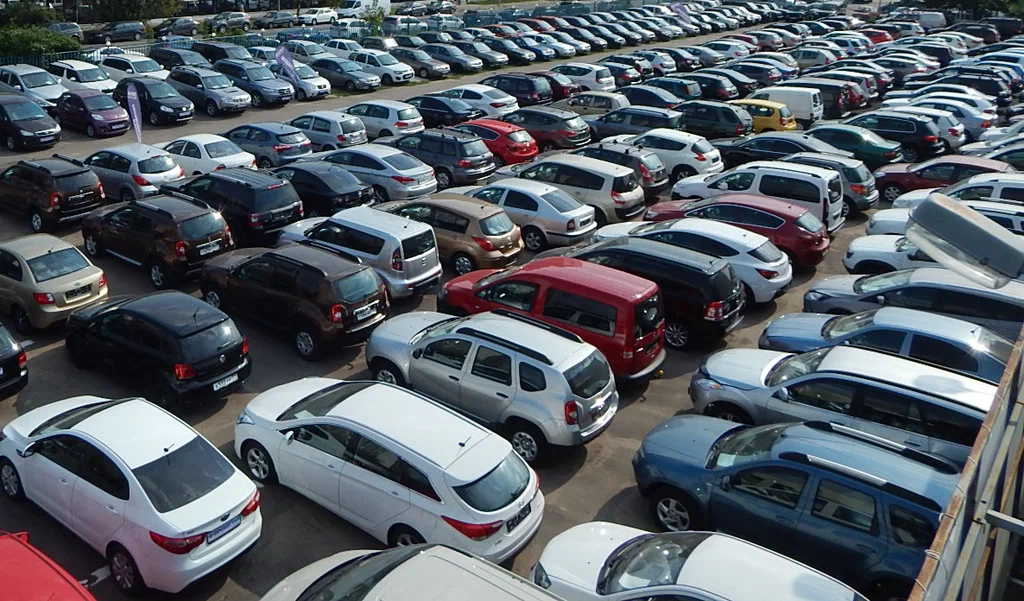Car: (632, 414, 959, 601), (233, 376, 545, 564), (0, 393, 263, 594), (366, 311, 619, 463), (689, 346, 997, 466), (436, 256, 665, 381), (530, 521, 870, 601), (533, 236, 746, 349), (200, 241, 389, 359), (65, 290, 252, 408), (758, 306, 1015, 383), (258, 543, 566, 601), (592, 218, 793, 305), (802, 267, 1024, 342), (278, 206, 442, 300), (81, 192, 234, 289), (643, 194, 830, 270), (670, 160, 846, 233), (372, 192, 524, 275), (446, 178, 597, 253), (161, 168, 305, 246), (493, 154, 646, 225), (0, 233, 109, 332), (0, 154, 105, 232), (306, 144, 438, 203), (370, 128, 497, 189), (872, 155, 1019, 203), (536, 143, 669, 196), (0, 529, 97, 601), (598, 128, 724, 183), (813, 111, 944, 161), (782, 152, 879, 217), (866, 197, 1024, 236), (268, 160, 375, 216), (83, 143, 184, 201), (707, 131, 855, 168), (480, 106, 592, 151), (892, 171, 1024, 208), (166, 64, 251, 118), (153, 133, 257, 177), (218, 121, 313, 168), (806, 123, 903, 168), (211, 57, 295, 108), (450, 119, 539, 166), (112, 76, 195, 125), (0, 88, 63, 151), (842, 234, 938, 275), (0, 63, 70, 119), (879, 106, 967, 150), (903, 74, 1012, 108), (911, 98, 995, 142), (54, 89, 131, 137), (581, 106, 684, 141), (337, 99, 424, 140), (745, 85, 825, 129), (284, 111, 368, 152), (884, 83, 998, 112), (904, 65, 1013, 95), (672, 100, 753, 139), (424, 83, 519, 115), (394, 95, 483, 128), (664, 68, 758, 99), (881, 92, 996, 117), (48, 58, 118, 99), (799, 67, 893, 97), (777, 79, 851, 117), (477, 72, 553, 108), (265, 61, 331, 102), (310, 57, 381, 92), (348, 49, 415, 85), (0, 322, 30, 400), (734, 99, 799, 133), (813, 71, 879, 104), (802, 59, 895, 82), (550, 90, 632, 115), (388, 47, 452, 79), (713, 57, 798, 81), (549, 62, 616, 92), (98, 54, 171, 81), (419, 43, 484, 73), (612, 84, 686, 110), (679, 72, 740, 102), (473, 35, 536, 64), (810, 77, 867, 108), (528, 70, 583, 101), (450, 40, 509, 68), (958, 132, 1024, 157), (149, 47, 213, 72), (875, 11, 947, 33), (725, 52, 800, 73), (330, 18, 386, 46), (641, 76, 703, 101), (190, 40, 254, 64), (595, 54, 654, 80), (278, 39, 337, 65), (723, 63, 784, 88), (865, 53, 941, 72), (870, 57, 927, 82), (629, 50, 678, 78), (88, 20, 146, 43), (522, 33, 575, 58), (596, 61, 643, 89), (851, 47, 938, 62), (650, 47, 702, 72), (78, 46, 145, 65), (782, 48, 837, 71), (905, 44, 954, 69), (556, 27, 607, 51), (540, 31, 591, 55), (950, 52, 1024, 68), (973, 61, 1024, 84), (507, 37, 555, 61), (978, 16, 1024, 41), (983, 143, 1024, 171), (743, 28, 803, 47), (676, 46, 726, 68), (337, 0, 392, 20), (691, 38, 759, 54), (722, 1, 773, 22), (381, 15, 429, 37), (581, 25, 626, 48), (206, 12, 252, 34), (247, 46, 300, 65), (876, 37, 947, 51), (596, 23, 641, 45), (701, 41, 750, 61), (918, 41, 969, 60), (611, 21, 655, 43), (629, 19, 673, 41), (654, 15, 700, 36), (276, 27, 332, 44), (936, 31, 986, 50), (641, 16, 684, 38), (979, 120, 1024, 141), (154, 18, 201, 38), (151, 34, 203, 52), (990, 66, 1024, 93), (229, 31, 281, 48), (957, 25, 1001, 45), (668, 14, 712, 34), (323, 38, 364, 59), (824, 37, 867, 57), (968, 43, 1024, 58), (745, 30, 783, 52), (47, 21, 85, 43), (463, 9, 507, 28), (928, 22, 996, 34), (762, 24, 807, 42), (714, 6, 756, 25), (705, 7, 746, 26), (255, 11, 298, 29), (858, 24, 903, 41), (777, 40, 840, 52), (925, 34, 968, 51), (688, 13, 726, 32), (721, 33, 761, 51), (699, 11, 739, 29), (426, 14, 467, 31), (298, 8, 338, 25), (815, 16, 860, 31), (362, 36, 399, 54), (839, 36, 877, 53), (885, 22, 925, 38), (805, 46, 850, 60), (727, 5, 762, 23), (805, 31, 866, 41), (856, 29, 894, 45), (498, 21, 540, 35), (482, 24, 523, 38), (797, 21, 835, 36), (516, 18, 556, 32), (786, 3, 815, 22), (755, 3, 783, 21), (536, 16, 578, 28), (558, 0, 591, 15), (760, 2, 788, 19), (660, 3, 699, 15), (416, 31, 455, 43), (395, 2, 428, 16), (814, 2, 838, 21), (393, 35, 428, 48), (425, 1, 457, 15), (499, 7, 531, 21), (533, 6, 568, 18), (575, 13, 609, 25), (852, 11, 883, 24), (597, 0, 633, 11), (589, 11, 622, 23), (561, 16, 593, 28), (642, 5, 677, 15), (819, 20, 850, 31), (442, 30, 475, 40), (461, 27, 496, 36), (826, 0, 847, 15), (1006, 103, 1024, 120), (628, 7, 655, 17), (794, 23, 813, 36), (610, 11, 637, 20), (889, 6, 911, 17), (680, 2, 703, 12), (690, 0, 717, 8), (879, 19, 916, 24), (850, 16, 866, 27), (1008, 114, 1024, 125), (625, 10, 644, 19), (813, 2, 823, 12), (1000, 48, 1024, 52), (693, 3, 705, 11), (1004, 39, 1024, 43), (1019, 90, 1024, 103), (1012, 35, 1024, 39)
